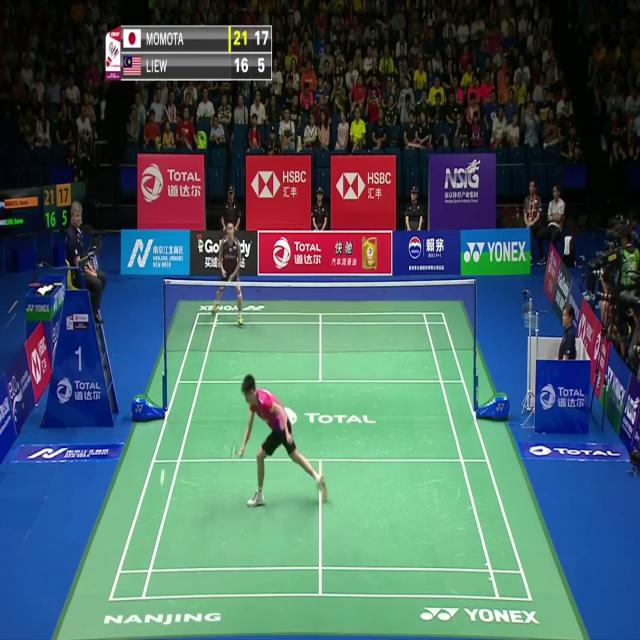Shuttlecock: (159, 469, 166, 480)
